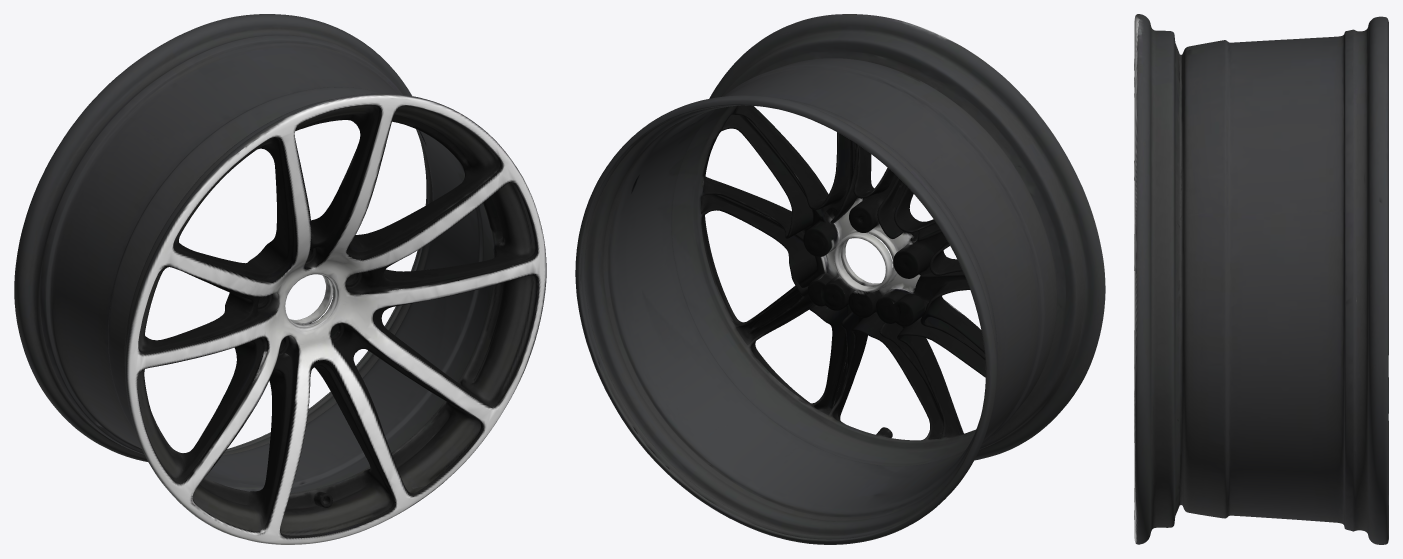
The model's file is rim-sport.glb.
The picture shows the model from 3 angles, left to right: view 1: azimuth 30°, elevation 25°; view 2: azimuth 150°, elevation 25°; view 3: azimuth 270°, elevation 25°; orthographic projection. The views are drawn at different scales.
Visible parts, largest first — view 1: node_0; view 2: node_0; view 3: node_0.
Part boxes in pixels (box(x1,y1,x2,y2)): node_0: box(14, 14, 546, 544); node_0: box(575, 14, 1105, 544); node_0: box(1134, 14, 1388, 544).
Size of the model in its own units: 1.09 by 1.09 by 0.5215.
Materials: 1 (1 with a texture image).
